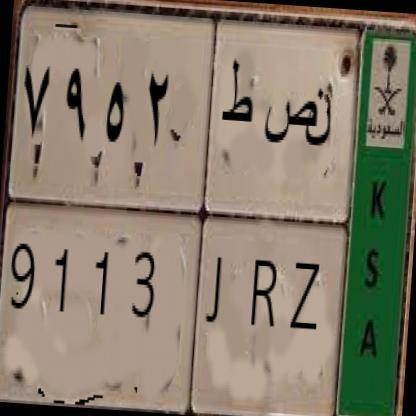english: (1, 197, 341, 404)
